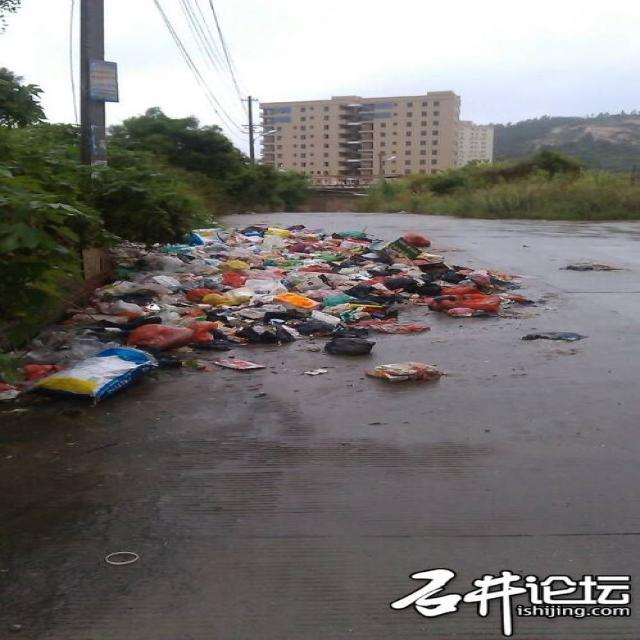garbage: (0, 224, 587, 400)
